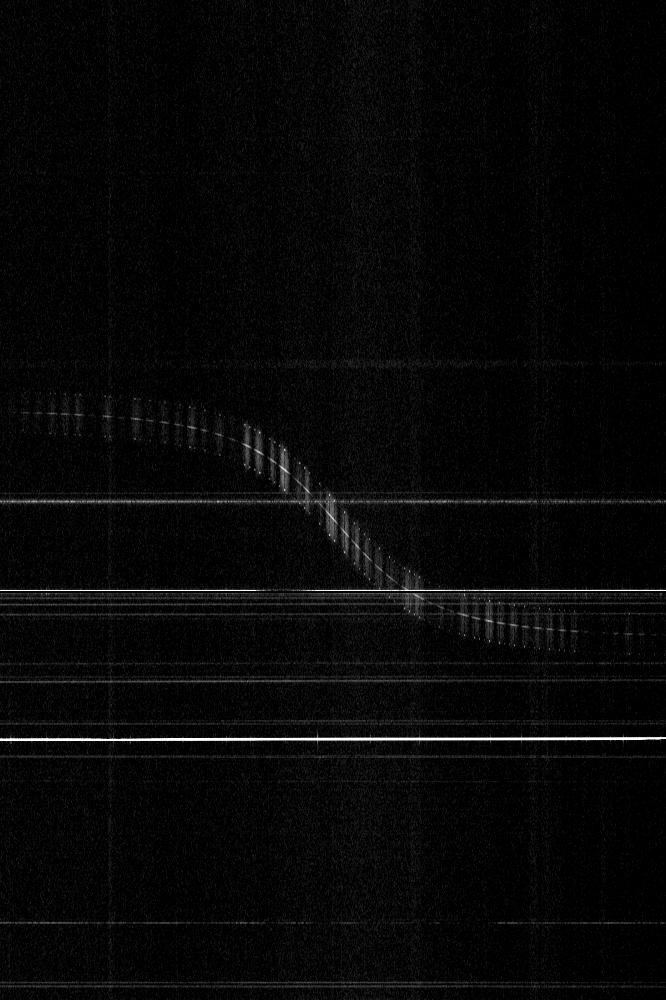signal: (0, 0, 665, 999)
